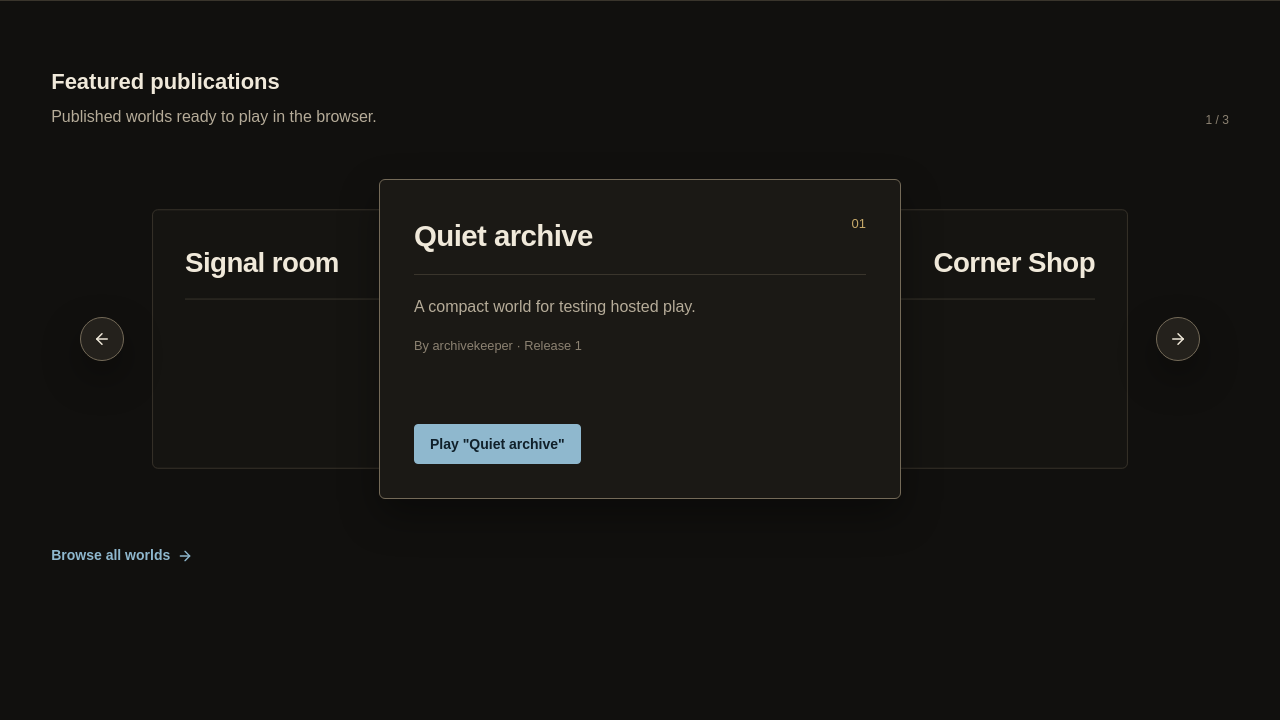
Test case: FeaturedPublicationsCarousel › renders overlapping publication pages and advances the page on top
Check: the heading "Quiet archive" is shown, box [414,214,593,258]
Click the button named "Next featured publication" at (1178, 339), box [1156,317,1200,361]
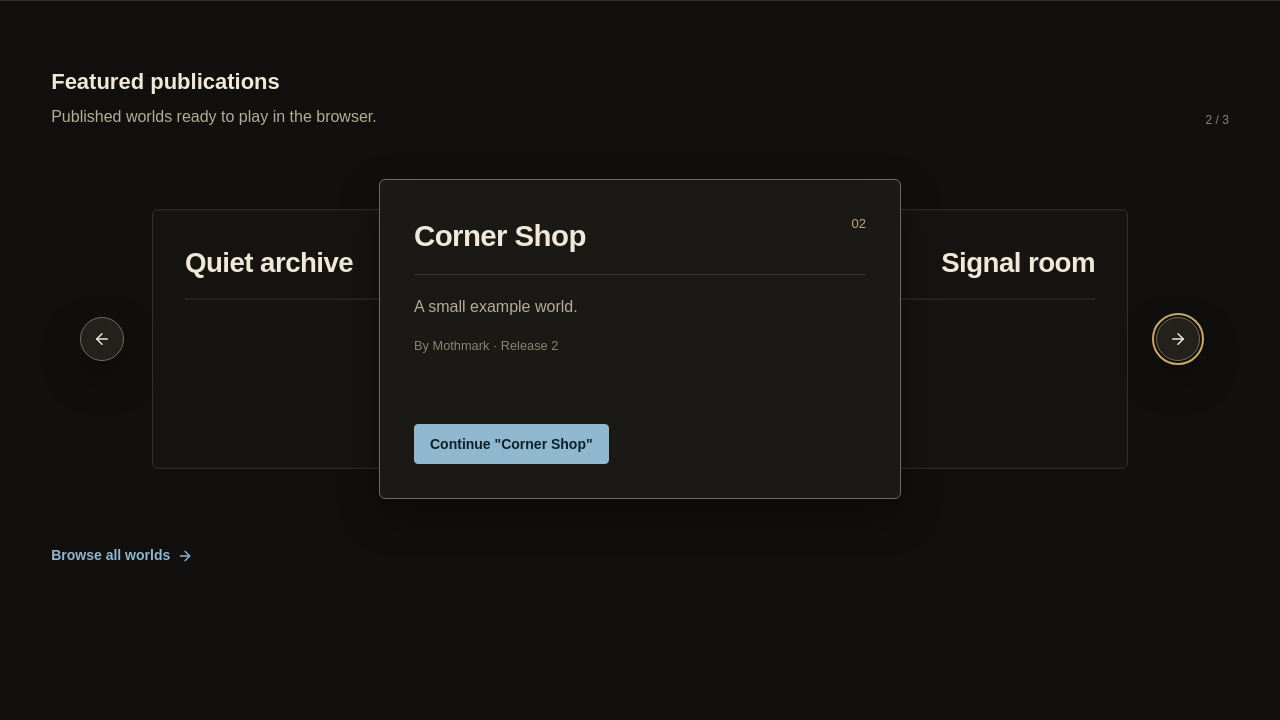
Check: the text "2 / 3" is shown, box [1205,111,1229,129]
